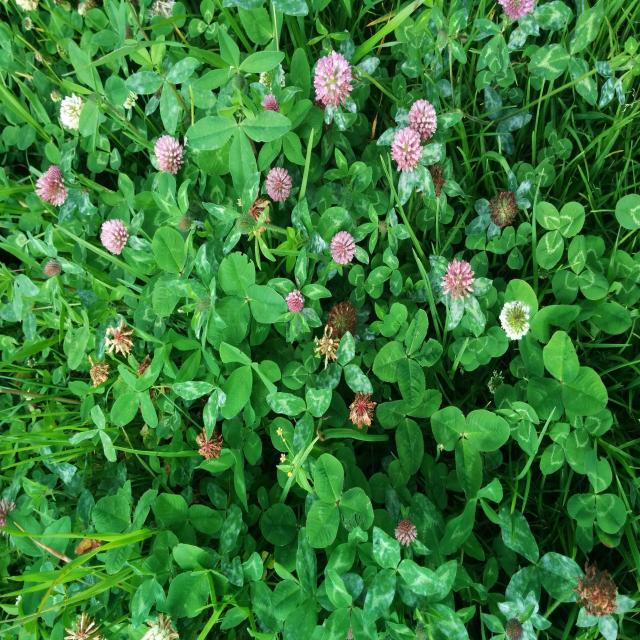Four Leaf Clover: (373, 308, 443, 408)
